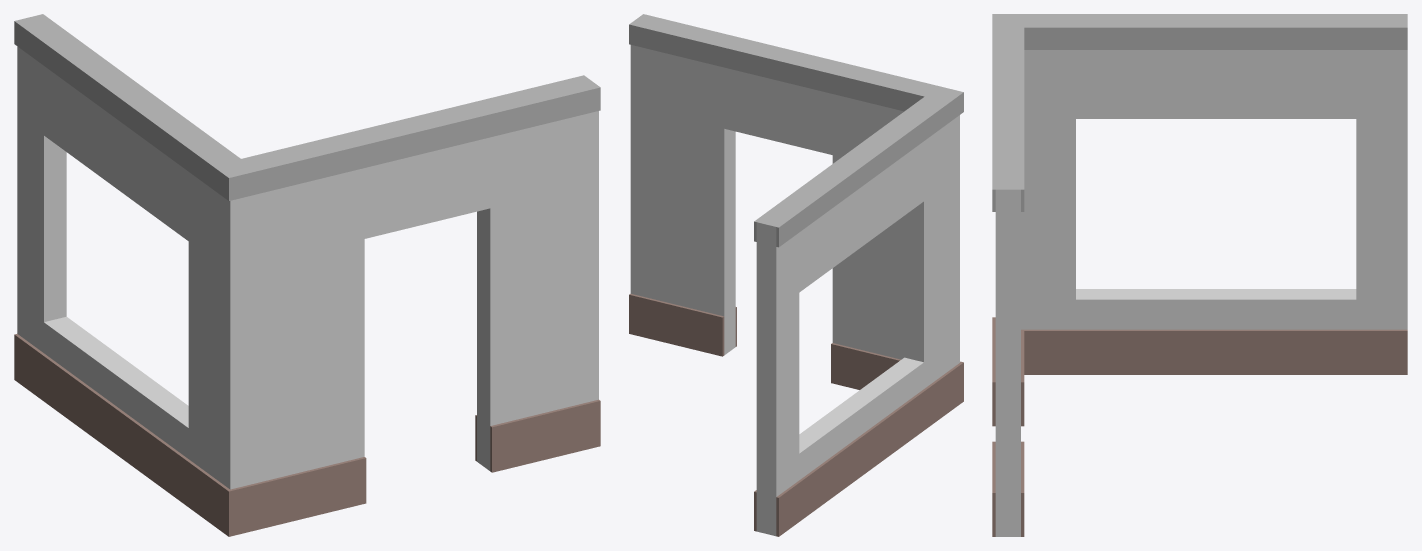
The model's file is Wall02-05.fbx.
The picture shows the model from 3 angles, left to right: view 1: azimuth 30°, elevation 25°; view 2: azimuth 150°, elevation 25°; view 3: azimuth 270°, elevation 25°; orthographic projection. The views are drawn at different scales.
Parts seen in each view (by area): view 1: Wall02-05; view 2: Wall02-05; view 3: Wall02-05.
Boxes of the visible parts, box(x1,y1,x2,y2) form: Wall02-05: box(14, 14, 600, 536); Wall02-05: box(629, 14, 963, 536); Wall02-05: box(992, 14, 1407, 536).
Bounding box in the file's own units: 3.25 × 3.25 × 3.
